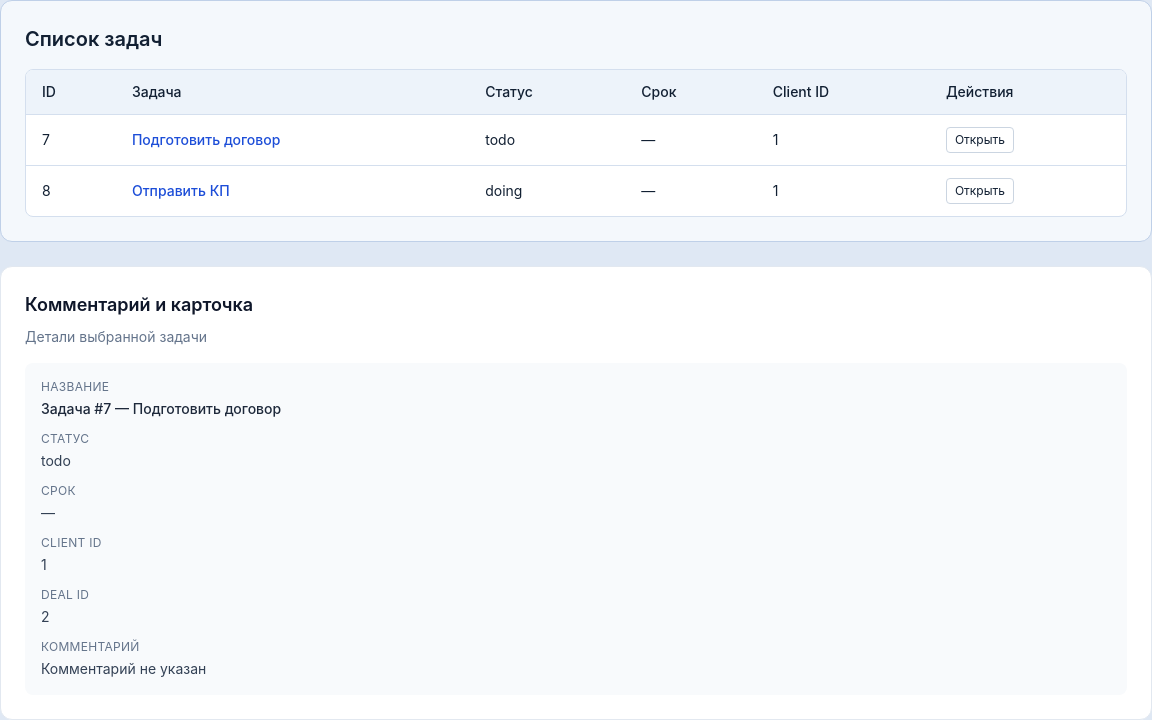
Test case: TasksPage › scrolls to task card after user selection
What coordinates should you click on to do the following:
click the button "Отправить КП"
I would click on:
 (181, 191)
Its box is [132, 181, 230, 201].
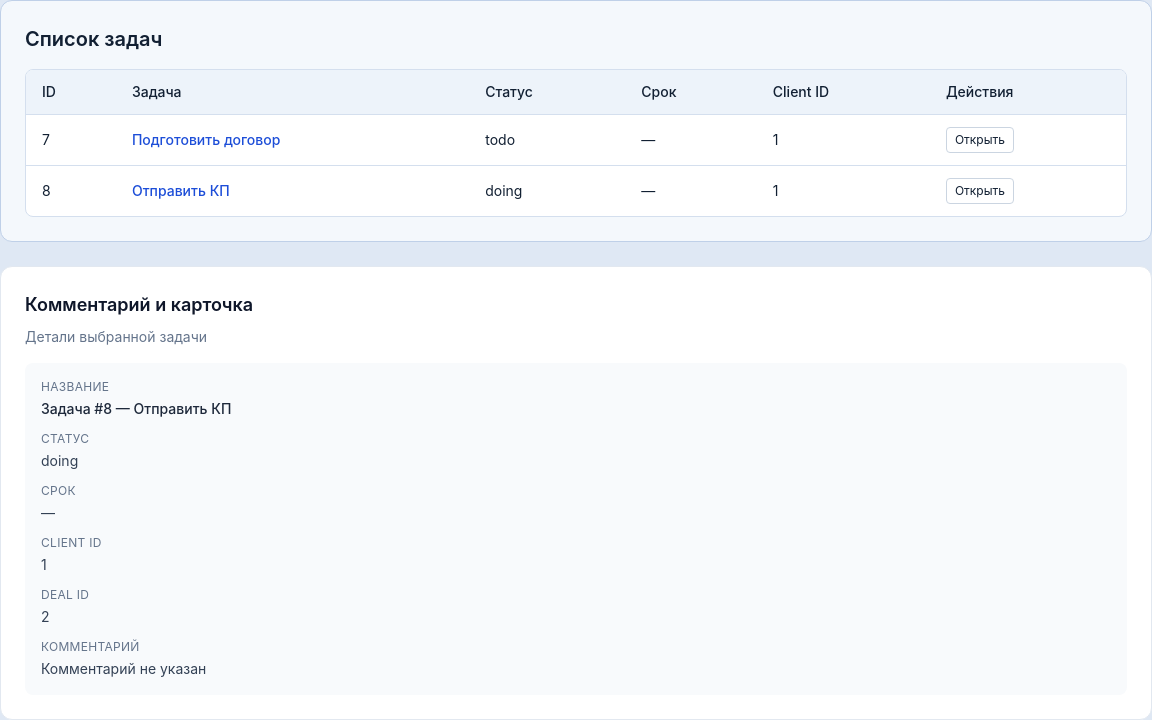
Expected: the text "Задача #8 — Отправить КП" is shown, [41, 400, 231, 417]
